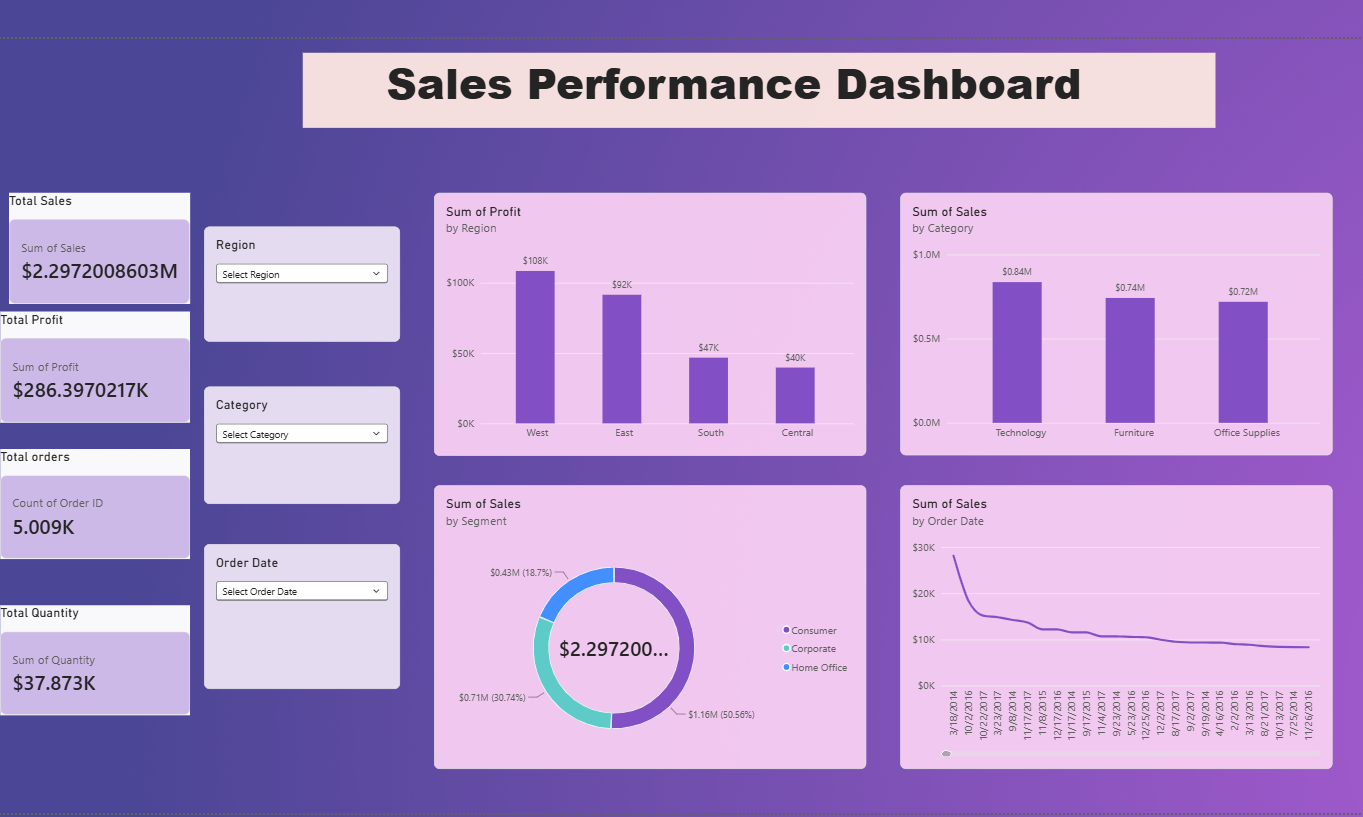

What the dashboard file says about the page in this screenshot:
{"tool":"powerbi","page":{"name":"Page 1","canvas":[1920,1080],"ordinal":0},"visuals":[{"type":"cardVisual","title":"Total Sales","fields":{"Data":["Sum(Sample - Superstore.Sales)"]},"box":[20.9,214.5,252.9,155.2],"z":0},{"type":"cardVisual","title":"Total Profit","fields":{"Data":["Sum(Sample - Superstore.Profit)"]},"box":[8.7,380.2,265.1,155.2],"z":1},{"type":"cardVisual","title":"Total orders","fields":{"Data":["Count(Sample - Superstore.Order ID)"]},"box":[8.7,572.1,265.1,153.5],"z":2},{"type":"cardVisual","title":"Total Quantity","fields":{"Data":["Sum(Sample - Superstore.Quantity)"]},"box":[8.7,790.1,265.1,153.5],"z":3},{"type":"clusteredColumnChart","fields":{"Category":["Sample - Superstore.Category"],"Y":["Sum(Sample - Superstore.Sales)"]},"box":[1264.5,214.5,603.5,366.3],"z":4},{"type":"clusteredColumnChart","fields":{"Category":["Sample - Superstore.Region"],"Y":["Sum(Sample - Superstore.Profit)"]},"box":[614,214.5,603,367],"z":5},{"type":"donutChart","fields":{"Category":["Sample - Superstore.Segment"],"Y":["Sum(Sample - Superstore.Sales)"]},"box":[614,622.7,603.5,395.9],"z":6},{"type":"lineChart","fields":{"Category":["Sample - Superstore.Order Date"],"Y":["Sum(Sample - Superstore.Sales)"]},"box":[1264.5,622.7,603.5,395.9],"z":7},{"type":"listSlicer","fields":{"Values":["Sample - Superstore.Region"]},"box":[293,261.6,273.8,160.5],"z":8},{"type":"listSlicer","fields":{"Values":["Sample - Superstore.Category"]},"box":[293,484.9,273.8,164],"z":9},{"type":"listSlicer","fields":{"Values":["Sample - Superstore.Order Date"]},"box":[293,704.7,273.8,202.3],"z":10},{"type":"textbox","box":[430.8,19.2,1273.3,104.7],"z":11}]}

Visuals, with their boxes in screenshot pixels (x1, y1, x2, y2):
"Total Sales" cardVisual: x1=0 y1=188 x2=177 y2=300
"Total Profit" cardVisual: x1=0 y1=308 x2=177 y2=421
"Total orders" cardVisual: x1=0 y1=447 x2=177 y2=559
"Total Quantity" cardVisual: x1=0 y1=605 x2=177 y2=717
clusteredColumnChart - Sample - Superstore.Category x Sum(Sample - Superstore.Sales): x1=896 y1=188 x2=1335 y2=454
clusteredColumnChart - Sample - Superstore.Region x Sum(Sample - Superstore.Profit): x1=424 y1=188 x2=862 y2=454
donutChart - Sample - Superstore.Segment x Sum(Sample - Superstore.Sales): x1=424 y1=484 x2=862 y2=771
lineChart - Sample - Superstore.Order Date x Sum(Sample - Superstore.Sales): x1=896 y1=484 x2=1335 y2=771
listSlicer - Sample - Superstore.Region: x1=191 y1=222 x2=390 y2=338
listSlicer - Sample - Superstore.Category: x1=191 y1=384 x2=390 y2=503
listSlicer - Sample - Superstore.Order Date: x1=191 y1=543 x2=390 y2=690
textbox: x1=291 y1=46 x2=1216 y2=122
